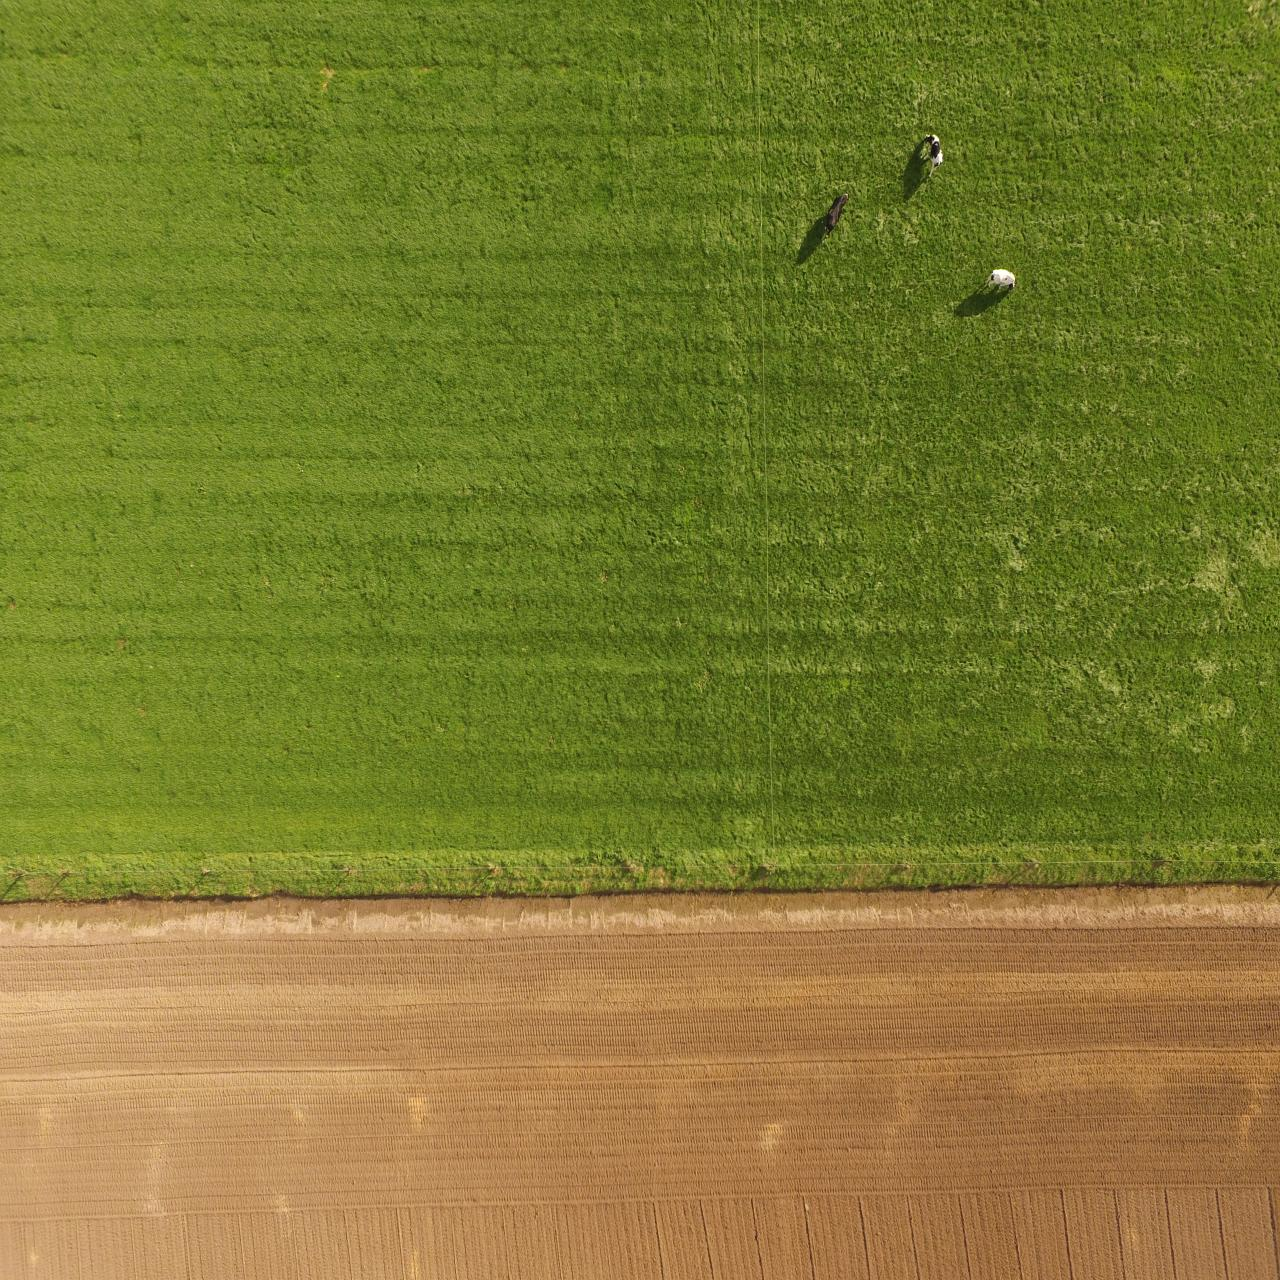cow: (821, 188, 850, 238), (921, 130, 946, 179), (982, 266, 1017, 294)
